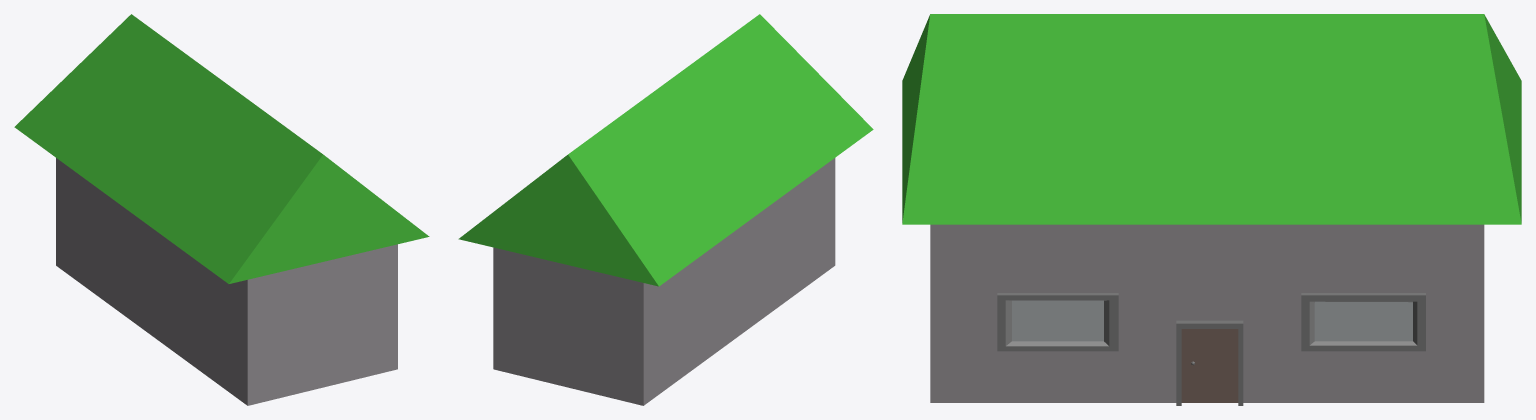
File: Small 5.fbx
3 renders of one model, left to right at view 1: azimuth 30°, elevation 25°; view 2: azimuth 150°, elevation 25°; view 3: azimuth 270°, elevation 25°, orthographic. The views are drawn at different scales.
Parts seen in each view (by area): view 1: pCube2; view 2: pCube2; view 3: pCube2.
Boxes of the visible parts, left/top/right/bottom form: pCube2: left=14, top=14, right=429, bottom=405; pCube2: left=458, top=14, right=873, bottom=405; pCube2: left=902, top=14, right=1521, bottom=405.
Size of the model in its own units: 7.99 by 8.86 by 14.79.
